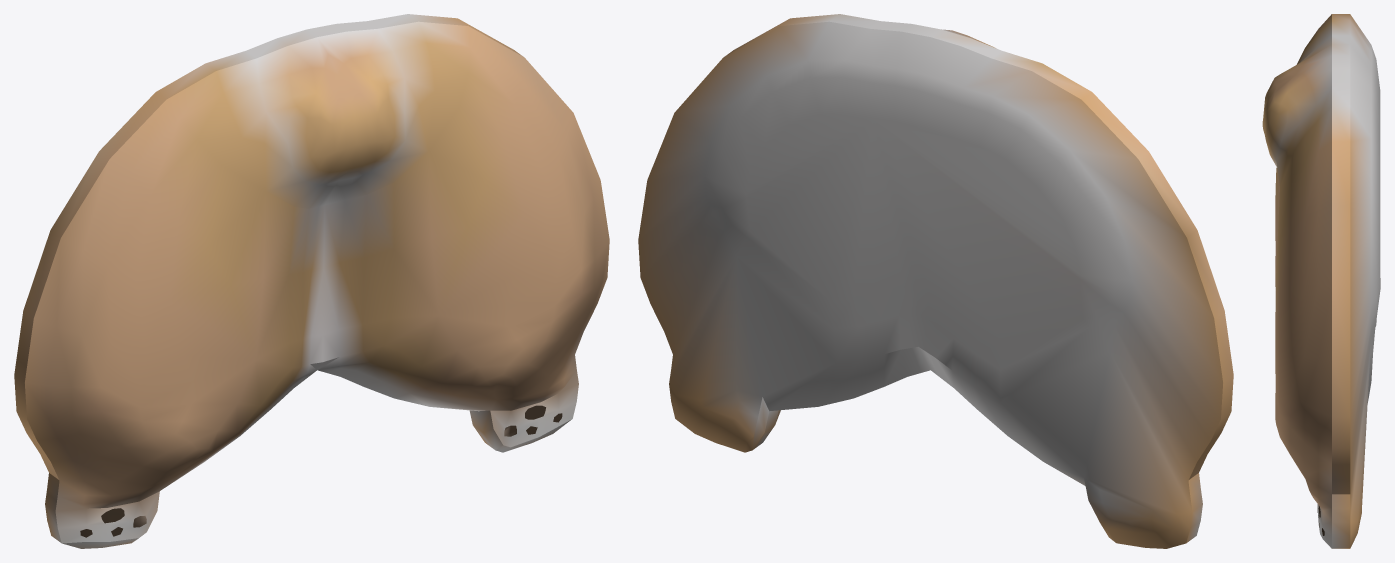
Rendered from fatAss.fbx.
3 views of the same model, side by side, from view 1: azimuth 30°, elevation 25°; view 2: azimuth 150°, elevation 25°; view 3: azimuth 270°, elevation 25° (orthographic). The views are drawn at different scales.
Visible parts, largest first — view 1: Ass; view 2: Ass; view 3: Ass.
Part boxes in pixels (x1,y1,x2,y2): Ass: (14, 14, 609, 548); Ass: (638, 14, 1233, 548); Ass: (1262, 14, 1380, 548).
Bounding box in the file's own units: 158 × 119 × 31.82.
